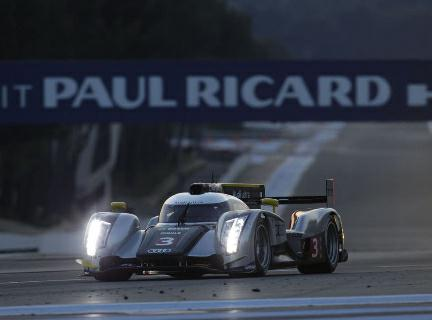奥迪-R18: (73, 176, 356, 287)
